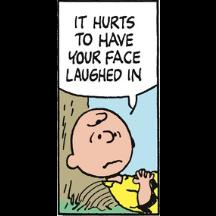charlie: (64, 108, 160, 216)
